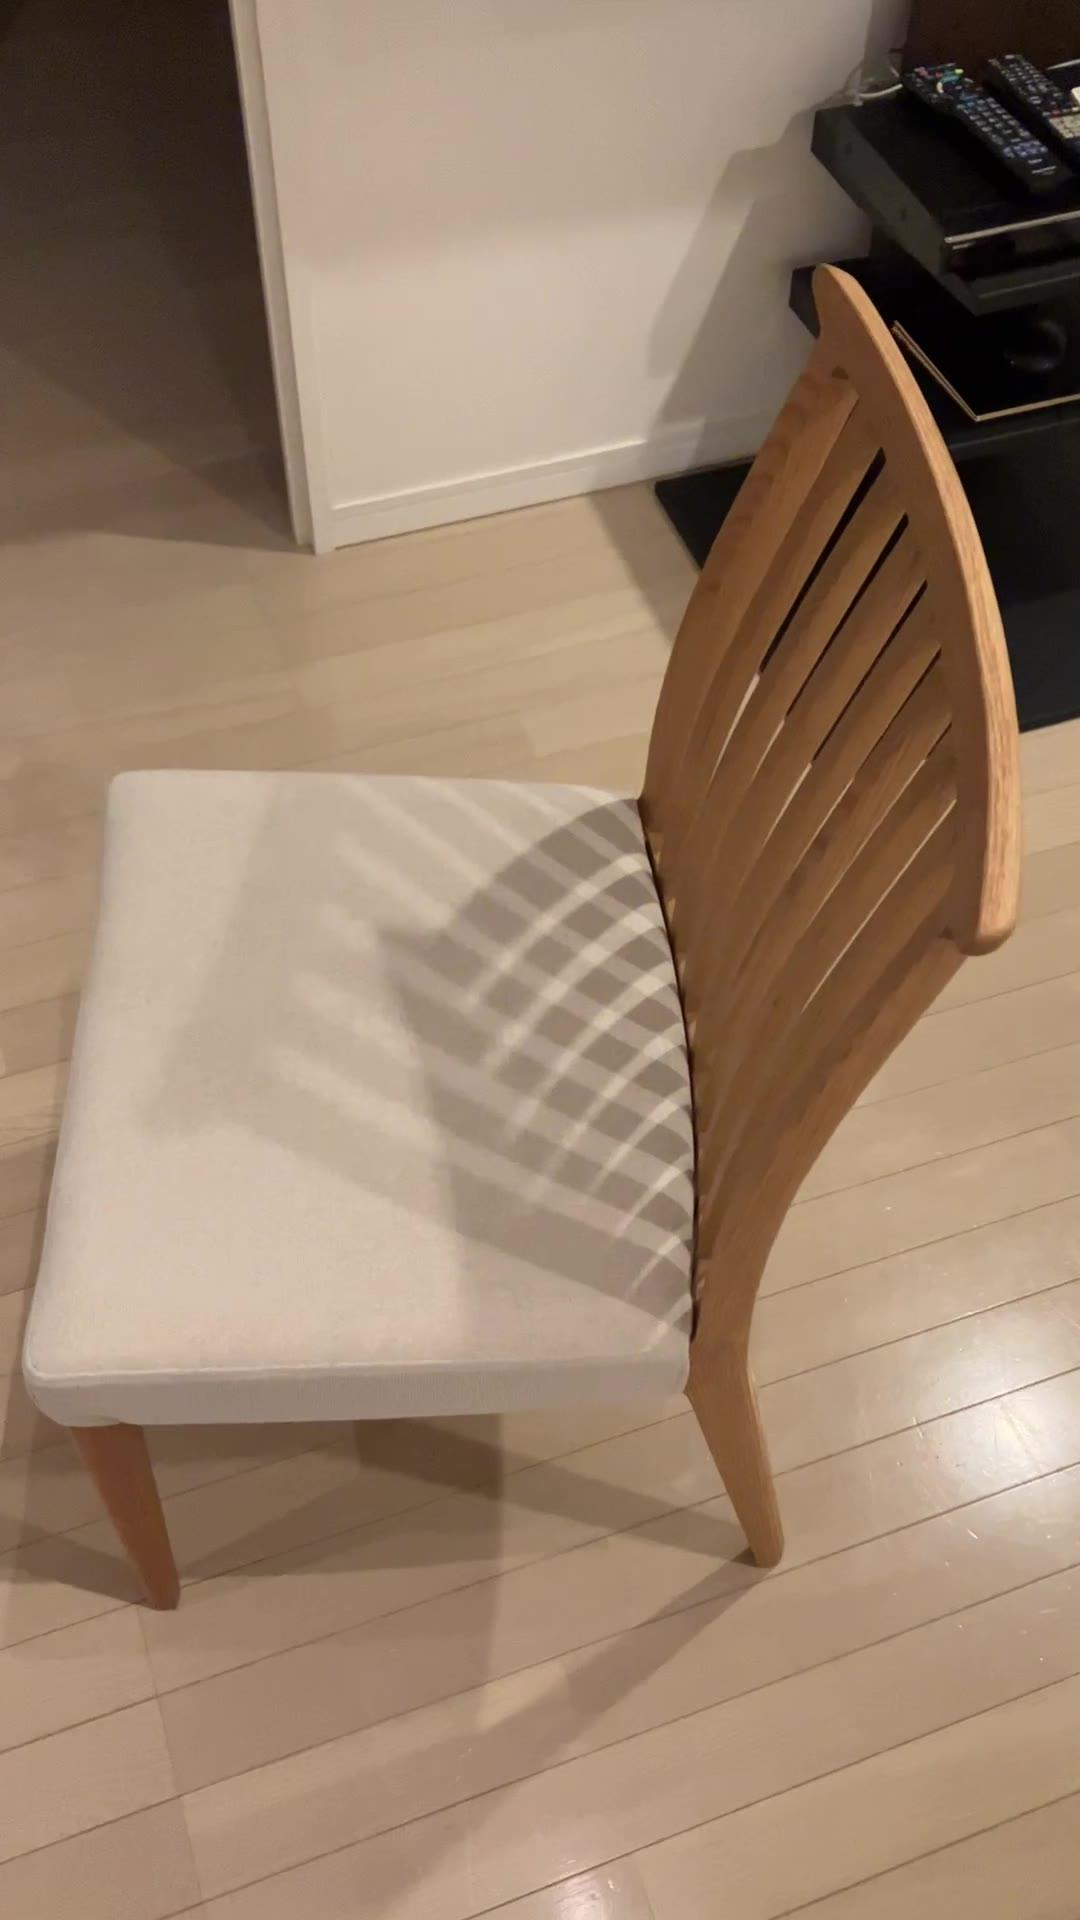takumikan-chair: (0, 264, 1027, 1621)
